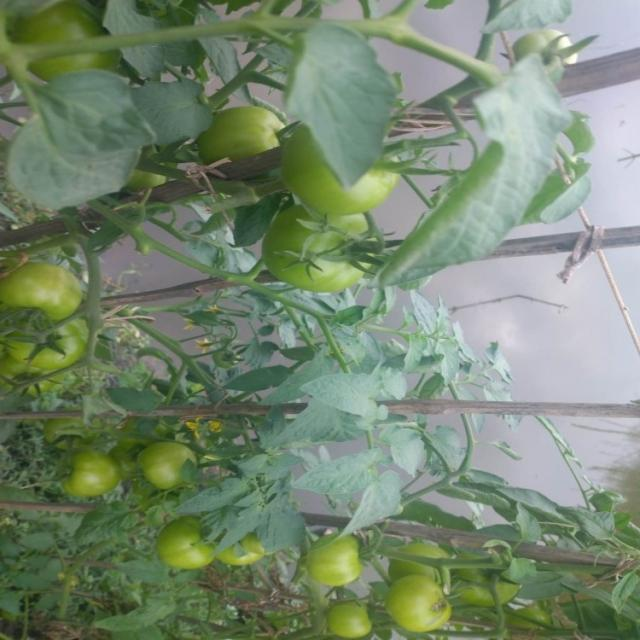tomato: (274, 116, 396, 229), (259, 219, 398, 299), (156, 510, 256, 589), (17, 3, 121, 77), (1, 249, 92, 332), (3, 322, 118, 386), (293, 517, 374, 597), (378, 553, 454, 636), (144, 425, 219, 494), (64, 444, 133, 518), (209, 97, 290, 157), (389, 519, 452, 591), (316, 595, 376, 640), (215, 536, 264, 568)
